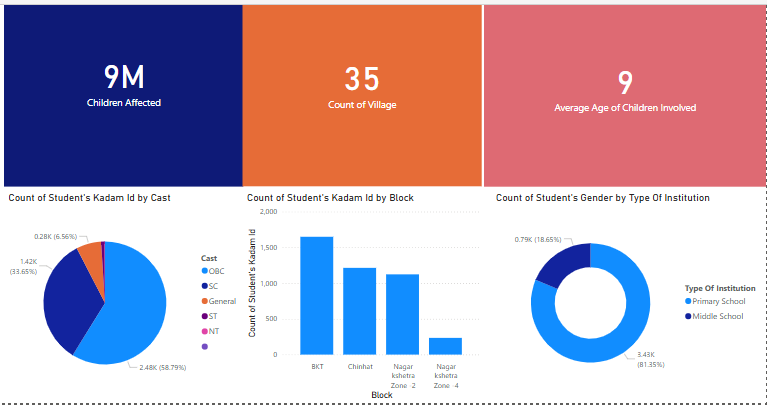

What the dashboard file says about the page in this screenshot:
{"tool":"powerbi","page":{"name":"Page 1","canvas":[1280,720],"ordinal":0},"visuals":[{"type":"card","fields":{"Values":["Compile Report.Sr. No."]},"box":[9.4,0,398.7,359.1],"z":0},{"type":"card","fields":{"Values":["Compile Report.Village"]},"box":[408.2,7.6,398.7,351.5],"z":1},{"type":"clusteredColumnChart","fields":{"Category":["Compile Report.Block"],"Y":["Compile Report.Student's Kadam Id"]},"box":[410.1,368.5,398.7,351.5],"z":2},{"type":"pieChart","fields":{"Category":["Compile Report.Cast"],"Y":["Compile Report.Student's Kadam Id"]},"box":[11.3,368.5,398.7,351.5],"z":3},{"type":"donutChart","fields":{"Category":["Compile Report.Type Of Institution"],"Y":["Compile Report.Student's Gender"]},"box":[823.9,368.5,455.4,351.5],"z":4},{"type":"card","fields":{"Values":["Compile Report.Student's Age"]},"box":[808.8,17,470.6,342],"z":5}]}

Visuals, with their boxes in screenshot pixels (x1, y1, x2, y2):
card - Compile Report.Sr. No.: {"x1": 2, "y1": 0, "x2": 240, "y2": 186}
card - Compile Report.Village: {"x1": 240, "y1": 0, "x2": 478, "y2": 186}
clusteredColumnChart - Compile Report.Block x Compile Report.Student's Kadam Id: {"x1": 241, "y1": 192, "x2": 479, "y2": 402}
pieChart - Compile Report.Cast x Compile Report.Student's Kadam Id: {"x1": 3, "y1": 192, "x2": 241, "y2": 402}
donutChart - Compile Report.Type Of Institution x Compile Report.Student's Gender: {"x1": 488, "y1": 192, "x2": 760, "y2": 402}
card - Compile Report.Student's Age: {"x1": 479, "y1": 0, "x2": 760, "y2": 186}
